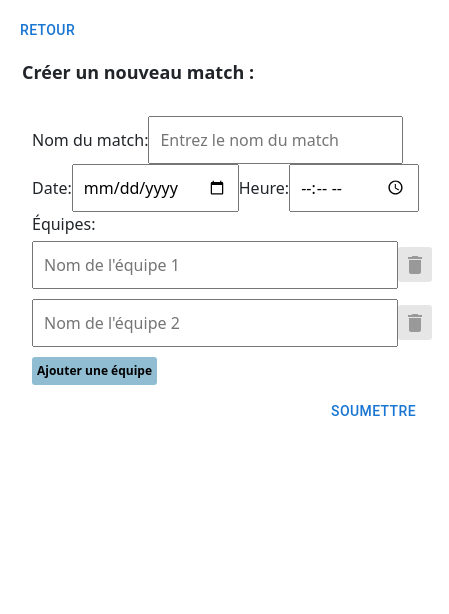
Test: NewGame Component › Message d'erreur lors de la soumission du formulaire avec le champ "Nom du match:" vide
Type "2022-01-01" into the date field labelled "Date:" at [155, 188], box top-left (72, 164), bottom-right (239, 212)
Type "12:00" into the time field labelled "Heure:" at [354, 188], box top-left (289, 164), bottom-right (419, 212)
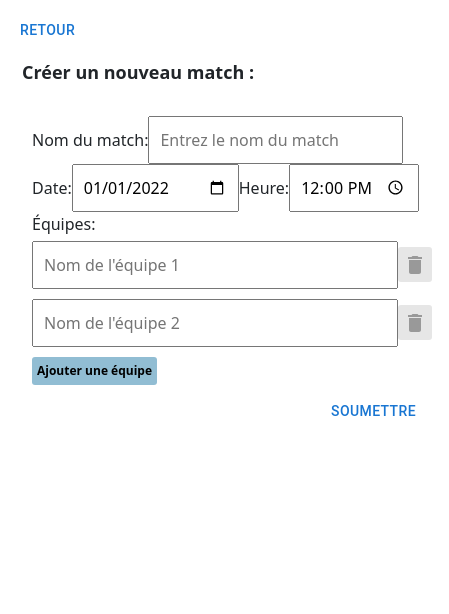
Click the button "Ajouter une équipe" at [94, 370], box top-left (32, 356), bottom-right (157, 384)
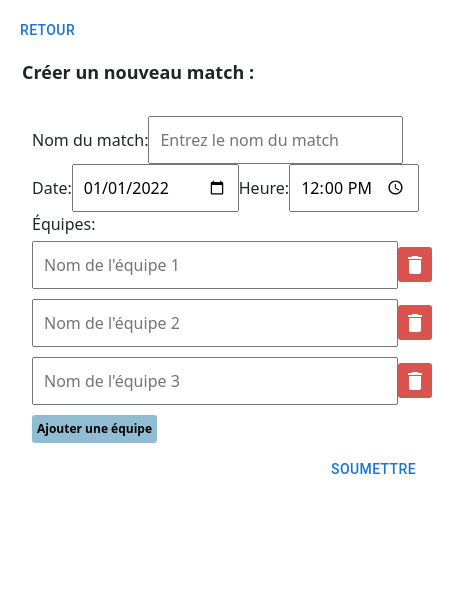
Type "Team A" into the field with placeholder "Nom de l'équipe 1" at [215, 264], box top-left (32, 240), bottom-right (398, 288)
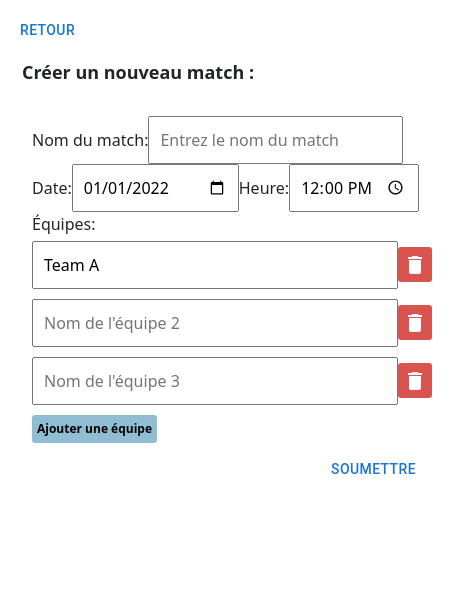
Type "Team B" into the field with placeholder "Nom de l'équipe 2" at [215, 322], box top-left (32, 298), bottom-right (398, 346)
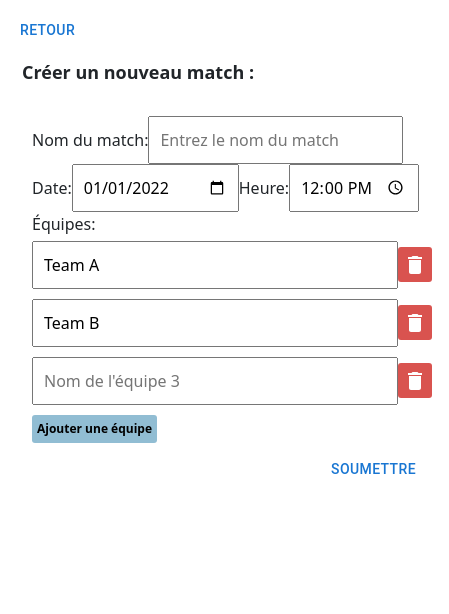
Type "Team C" into the field with placeholder "Nom de l'équipe 3" at [215, 380], box top-left (32, 356), bottom-right (398, 404)
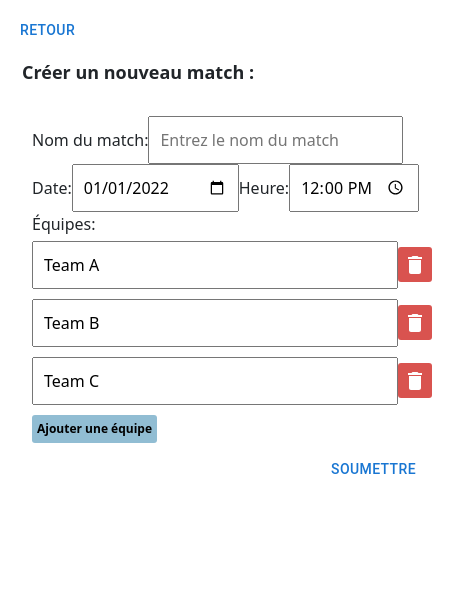
Click the button "Soumettre" at [374, 469], box top-left (323, 450), bottom-right (424, 487)
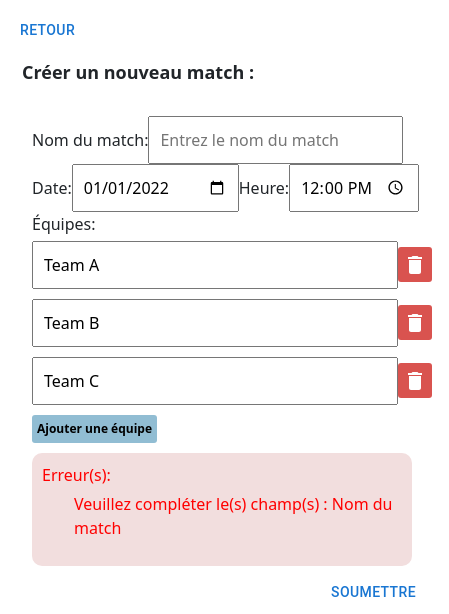
Expected: the list item "Veuillez compléter le(s) champ(s) : Nom du match" is shown, top-left (74, 492), bottom-right (402, 540)
